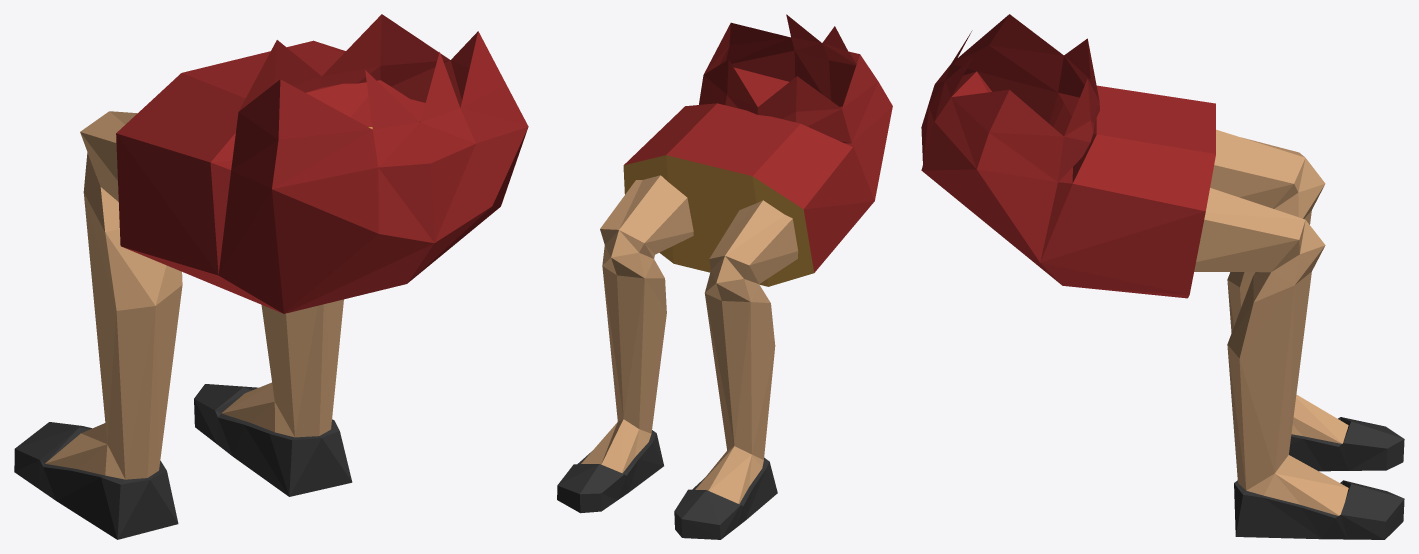
The model's file is Mother_02_Legs_79_04_B.obj.
3 views of the same model, side by side, from view 1: azimuth 30°, elevation 25°; view 2: azimuth 150°, elevation 25°; view 3: azimuth 270°, elevation 25° (orthographic). The views are drawn at different scales.
Visible parts, largest first — view 1: Mother_02_Legs_79_04_B; view 2: Mother_02_Legs_79_04_B; view 3: Mother_02_Legs_79_04_B.
Part boxes in pixels (x1=…): Mother_02_Legs_79_04_B: x1=14, y1=14, x2=528, y2=539; Mother_02_Legs_79_04_B: x1=557, y1=14, x2=892, y2=539; Mother_02_Legs_79_04_B: x1=921, y1=14, x2=1404, y2=539.
Bounding box in the file's own units: 0.3852 × 0.7338 × 0.7153.
Materials: 1 (1 with a texture image).
